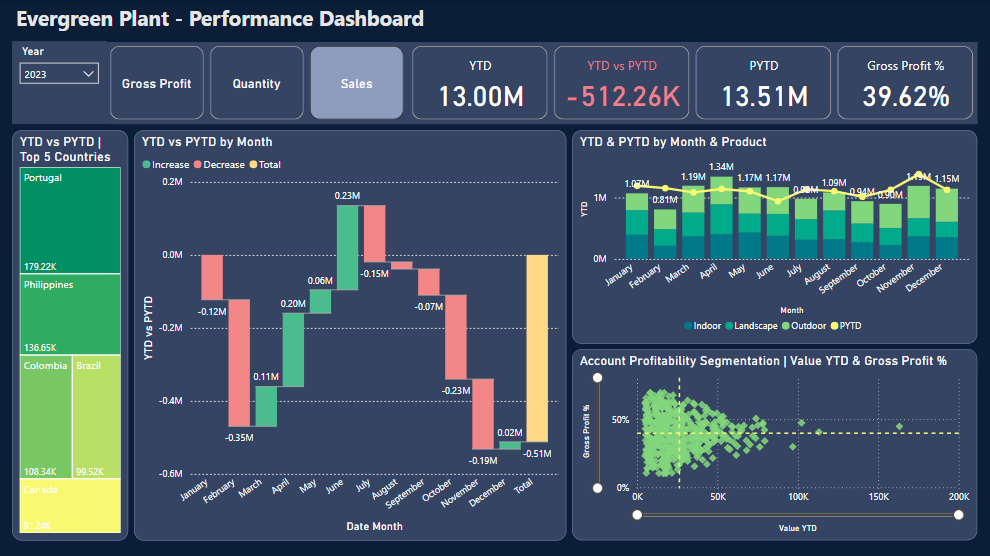

What the dashboard file says about the page in this screenshot:
{"tool":"powerbi","page":{"name":"Performance Report","canvas":[1280,720],"ordinal":0},"visuals":[{"type":"cardVisual","title":"Gross","fields":{"Data":["_Measures.Switch YTD","_Measures.YTD vs PYTD","_Measures.Switch PYTD","_Measures.GP%"]},"box":[527.7,54.2,735.5,105.8],"z":0},{"type":"advancedSlicerVisual","fields":{"Values":["Slicer_Values.Values"]},"box":[138.1,54.2,389.7,105.8],"z":1000},{"type":"slicer","fields":{"Values":["Dim_Date.Date.Variation.Date Hierarchy.Year"]},"box":[16.3,53.5,121.8,106.9],"z":2000},{"type":"waterfallChart","fields":{"Category":["Dim_Date.Date.Variation.Date Hierarchy.Month","Dim_Account.country","Dim_Products.Produt_Type","Dim_Products.Product_Name"],"Y":["_Measures.YTD vs PYTD"]},"box":[174.3,167.2,558.4,530.1],"z":3000},{"type":"lineStackedColumnComboChart","title":"YTD & PYTD by Month & Product","fields":{"Y":["_Measures.Switch YTD"],"Y2":["_Measures.Switch PYTD"],"Category":["Dim_Date.Date.Variation.Date Hierarchy.Month"],"Series":["Dim_Products.Produt_Type"]},"box":[739.8,167.2,523,276.4],"z":4000},{"type":"treemap","title":"YTD vs PYTD | Top 5 Countries","fields":{"Group":["Dim_Account.country"],"Values":["_Measures.YTD vs PYTD"]},"box":[17,167.2,150.2,530.1],"z":5000},{"type":"scatterChart","title":"Account Profitability Segmentation | Value YTD & Gross Profit %","fields":{"X":["_Measures.Switch YTD"],"Category":["Dim_Account.Account"],"Y":["_Measures.GP%"]},"box":[739.8,450.7,523,246.6],"z":6000},{"type":"textbox","box":[16.8,0,610.3,52.9],"z":7000}]}

Visuals, with their boxes in screenshot pixels (x1, y1, x2, y2), scaled from the page's 1280x720 canvas onto the 990x556 screenshot:
"Gross" cardVisual: left=408, top=42, right=977, bottom=124
advancedSlicerVisual - Slicer_Values.Values: left=107, top=42, right=408, bottom=124
slicer - Dim_Date.Date.Variation.Date Hierarchy.Year: left=13, top=41, right=107, bottom=124
waterfallChart - Dim_Date.Date.Variation.Date Hierarchy.Month x Dim_Account.country: left=135, top=129, right=567, bottom=538
"YTD & PYTD by Month & Product" lineStackedColumnComboChart: left=572, top=129, right=977, bottom=343
"YTD vs PYTD | Top 5 Countries" treemap: left=13, top=129, right=129, bottom=538
"Account Profitability Segmentation | Value YTD & Gross Profit %" scatterChart: left=572, top=348, right=977, bottom=538
textbox: left=13, top=0, right=485, bottom=41
